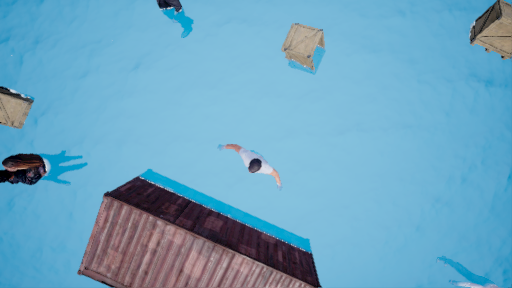person: (4, 150, 95, 193), (207, 144, 281, 183)
